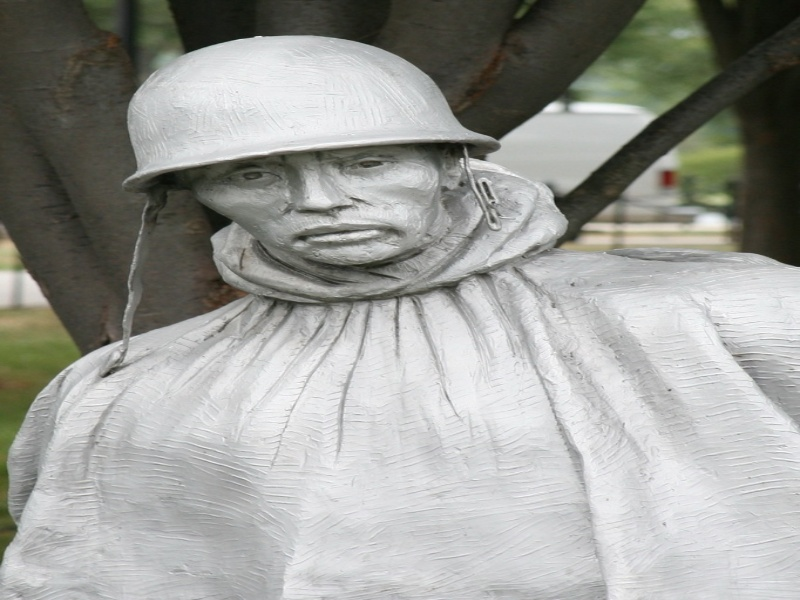Baret: (128, 36, 495, 150)
